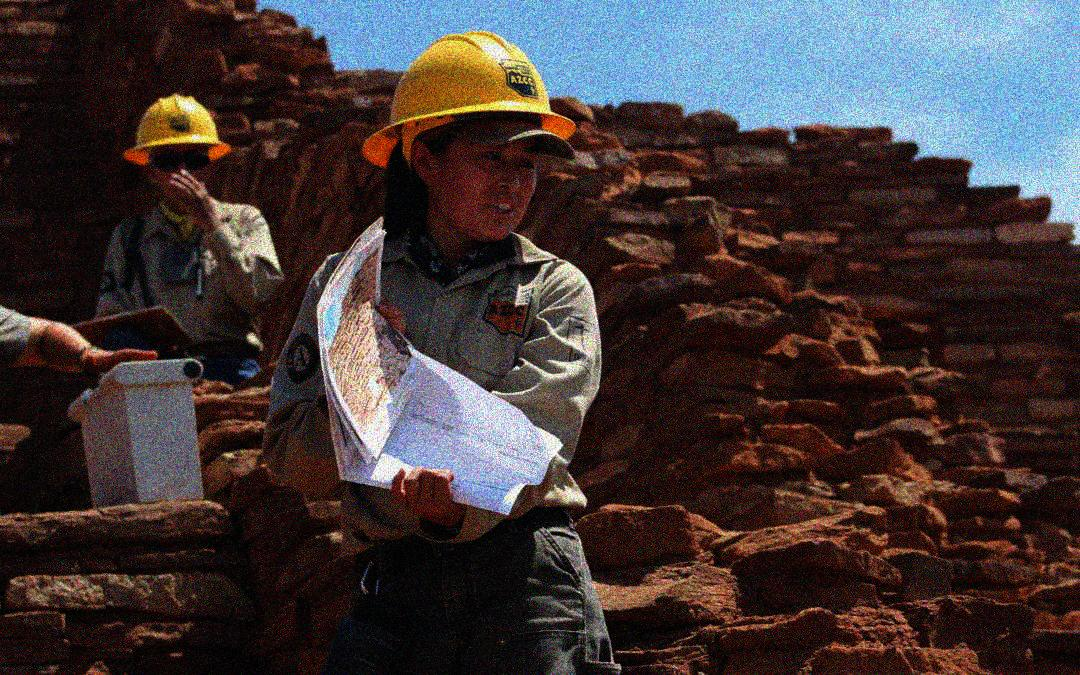helmet: (360, 31, 577, 246), (123, 93, 233, 208)
